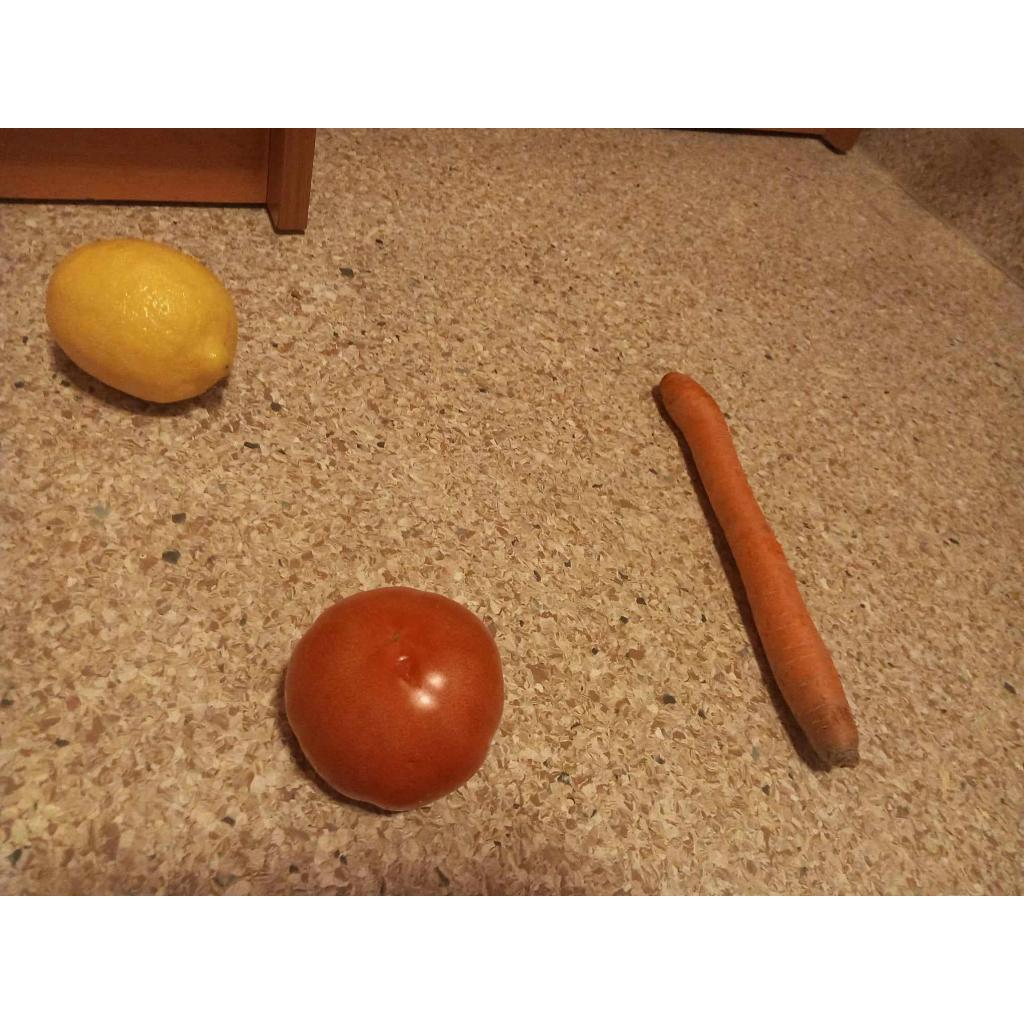carrot: (660, 372, 860, 766)
lemon: (46, 240, 238, 402)
tomato: (286, 588, 504, 810)
